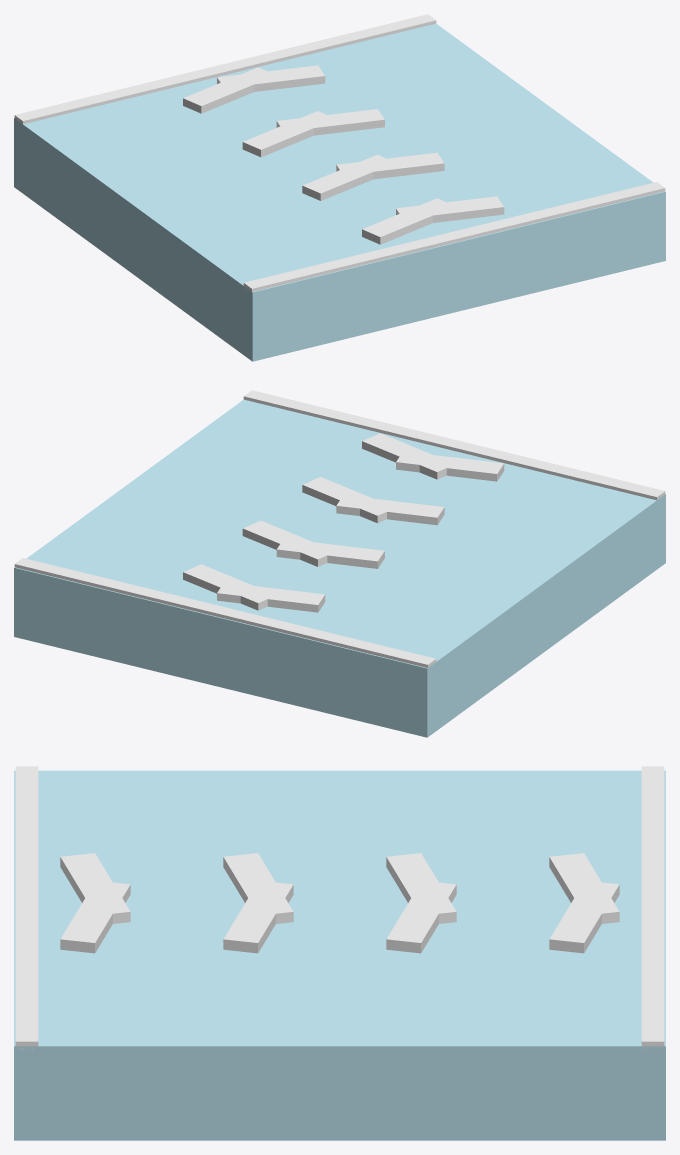
The model's file is OnOffConveyorB_Thin.glb.
3 renders of one model, top to bottom at view 1: azimuth 30°, elevation 25°; view 2: azimuth 150°, elevation 25°; view 3: azimuth 270°, elevation 25°, orthographic. The views are drawn at different scales.
Parts seen in each view (by area): view 1: OnOffConveyorB_Thin_body, rail_-0.019, rail_0.019, chev_2_-1.019, chev_0_1.019, chev_3_1.019, chev_1_1.019, chev_1_-1.019, chev_3_-1.019, chev_2_1.019, chev_0_-1.019; view 2: OnOffConveyorB_Thin_body, rail_-0.019, rail_0.019, chev_0_1.019, chev_2_1.019, chev_3_1.019, chev_1_1.019, chev_3_-1.019, chev_0_-1.019, chev_1_-1.019, chev_2_-1.019; view 3: OnOffConveyorB_Thin_body, rail_-0.019, rail_0.019, chev_2_-1.019, chev_1_-1.019, chev_3_-1.019, chev_0_-1.019, chev_3_1.019, chev_0_1.019, chev_1_1.019, chev_2_1.019.
Boxes of the visible parts, bbox=[...] form: OnOffConveyorB_Thin_body: bbox=[14, 23, 665, 361]; rail_-0.019: bbox=[243, 182, 665, 291]; rail_0.019: bbox=[14, 14, 436, 124]; chev_2_-1.019: bbox=[276, 109, 384, 135]; chev_0_1.019: bbox=[362, 198, 454, 244]; chev_3_1.019: bbox=[183, 67, 275, 113]; chev_1_1.019: bbox=[302, 154, 388, 200]; chev_1_-1.019: bbox=[336, 152, 444, 179]; chev_3_-1.019: bbox=[217, 65, 325, 91]; chev_2_1.019: bbox=[242, 111, 326, 157]; chev_0_-1.019: bbox=[396, 196, 504, 222]; OnOffConveyorB_Thin_body: bbox=[14, 399, 665, 737]; rail_-0.019: bbox=[243, 390, 665, 500]; rail_0.019: bbox=[14, 558, 436, 668]; chev_0_1.019: bbox=[396, 451, 504, 481]; chev_2_1.019: bbox=[276, 539, 384, 568]; chev_3_1.019: bbox=[217, 583, 325, 612]; chev_1_1.019: bbox=[336, 495, 444, 525]; chev_3_-1.019: bbox=[183, 564, 275, 610]; chev_0_-1.019: bbox=[362, 433, 454, 479]; chev_1_-1.019: bbox=[302, 477, 395, 523]; chev_2_-1.019: bbox=[242, 520, 335, 566]; OnOffConveyorB_Thin_body: bbox=[14, 770, 665, 1140]; rail_-0.019: bbox=[15, 766, 38, 1050]; rail_0.019: bbox=[641, 766, 664, 1049]; chev_2_-1.019: bbox=[386, 882, 456, 953]; chev_1_-1.019: bbox=[223, 882, 293, 953]; chev_3_-1.019: bbox=[549, 882, 619, 953]; chev_0_-1.019: bbox=[60, 882, 130, 953]; chev_3_1.019: bbox=[549, 853, 619, 923]; chev_0_1.019: bbox=[60, 853, 130, 923]; chev_1_1.019: bbox=[223, 853, 293, 923]; chev_2_1.019: bbox=[386, 853, 456, 923].
Bounding box in the file's own units: 1 × 0.1775 × 1.
